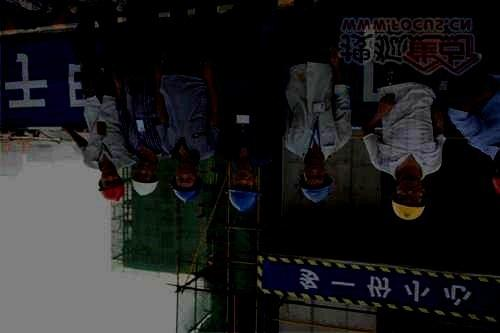helmet: (392, 174, 426, 221), (298, 160, 333, 203), (227, 167, 258, 211), (131, 158, 160, 197), (172, 164, 200, 204), (97, 168, 126, 203)
